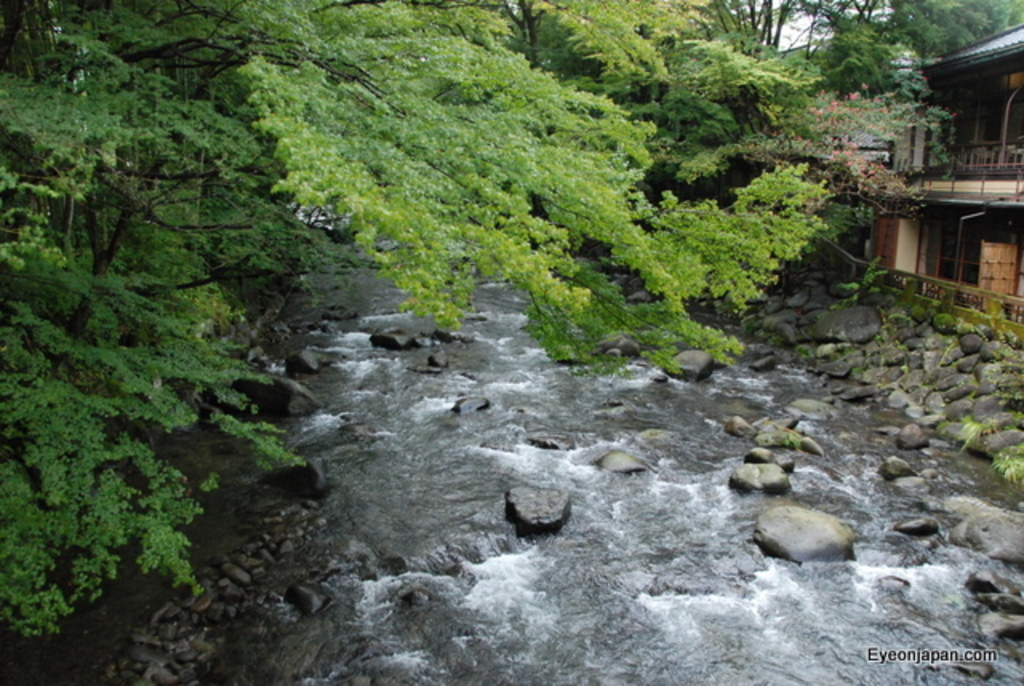Tree: (0, 0, 1020, 638)
